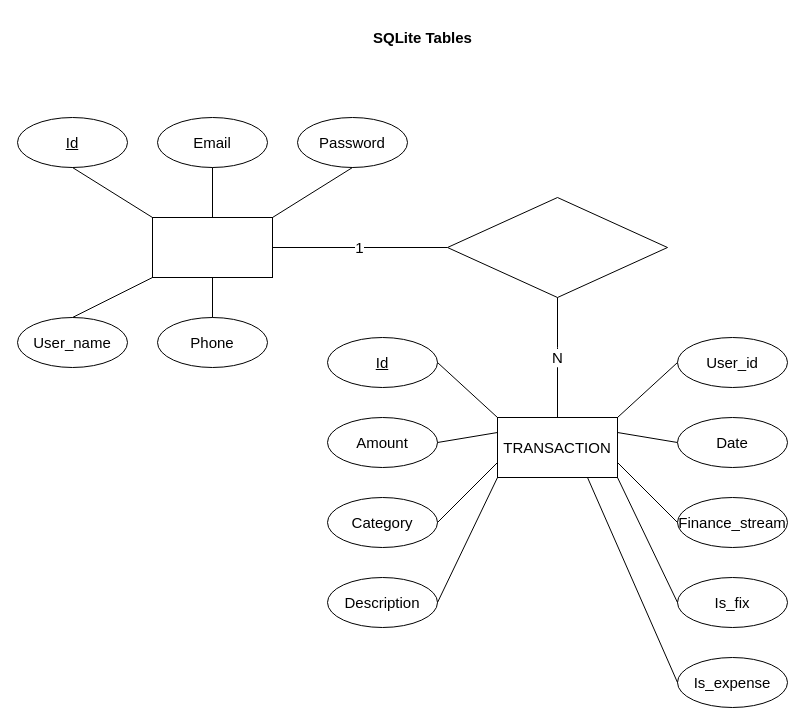
This 805x725 diagram has some shape labels left out. The centre of each missing label's shape, as x and y in pixels:
"USER" goes at point 212,247.
"USER_TRANSACTION" goes at point 557,247.
